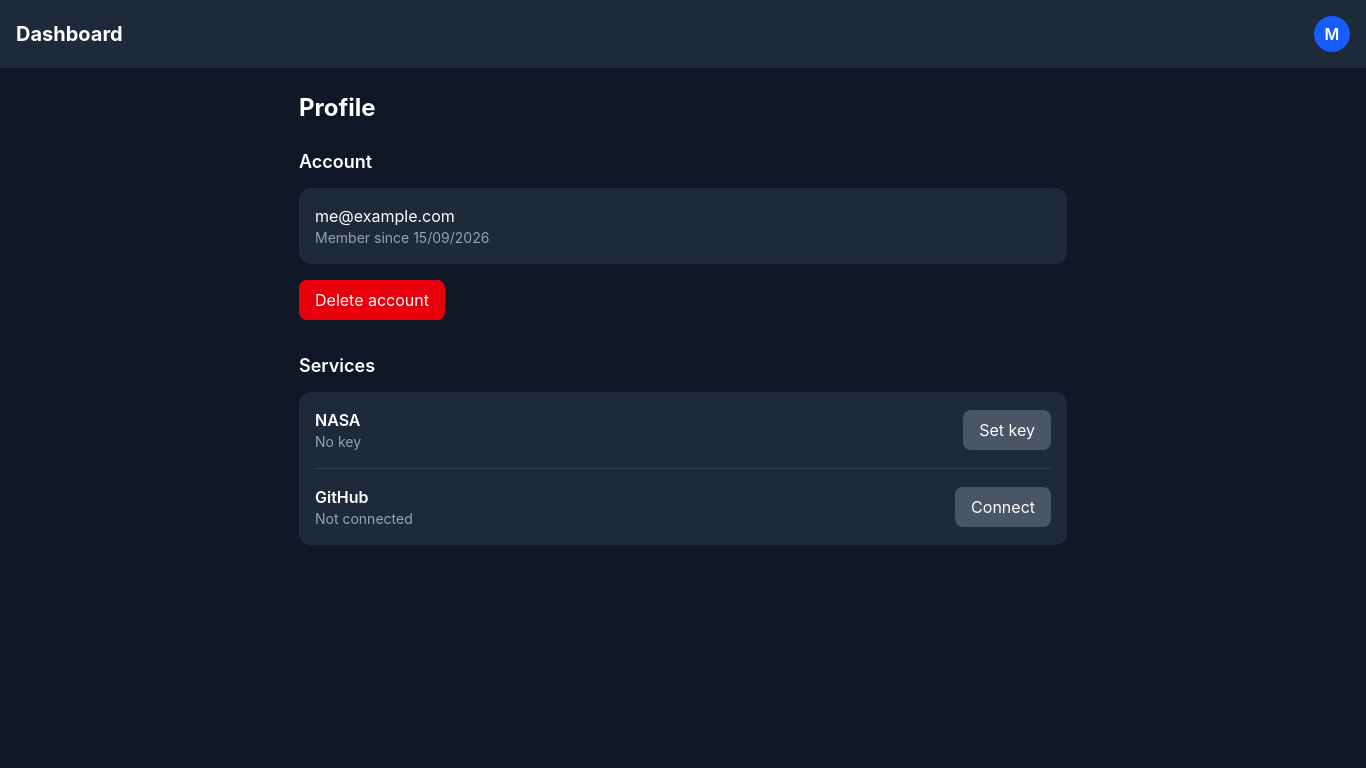
Test case: Account: deleting the account › clicking it asks for confirmation, warning it cannot be undone
Click the button "Delete account": (372, 300) [299,280,445,320]
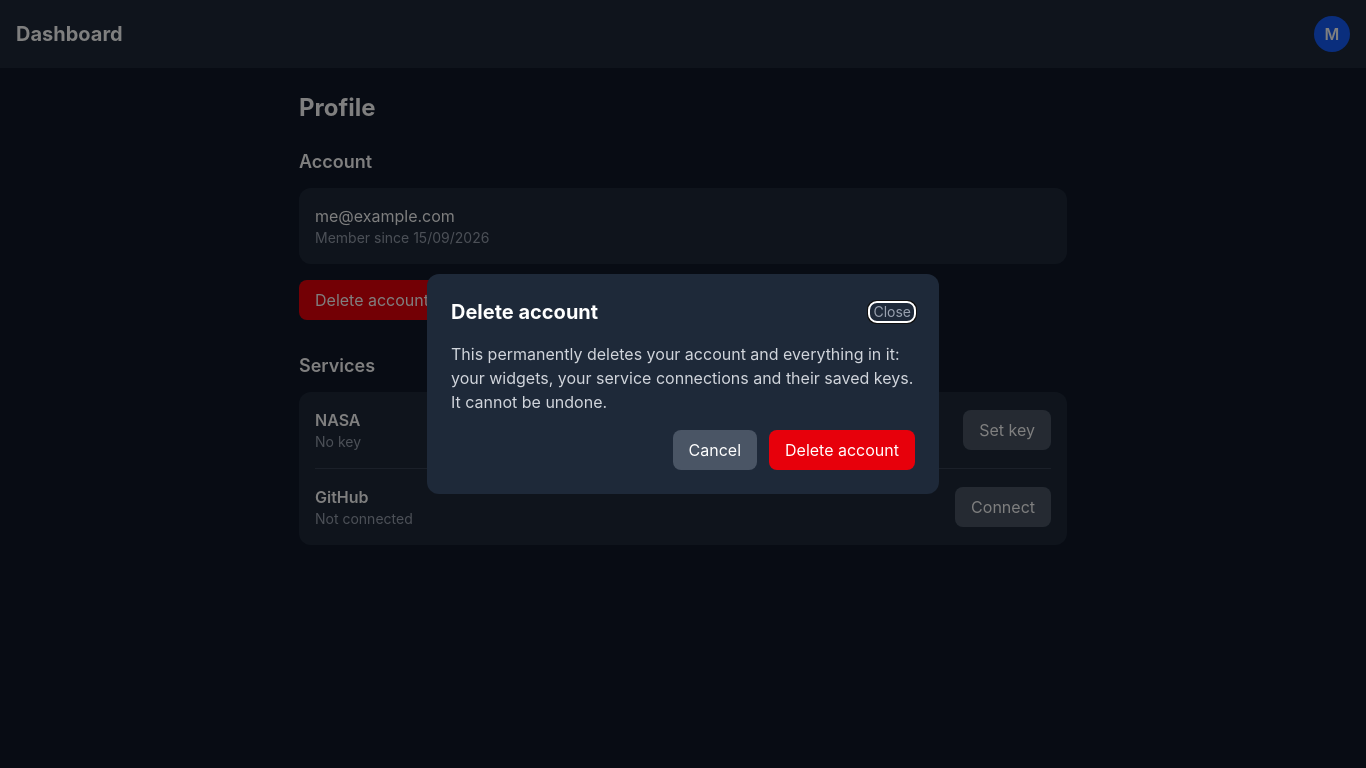
Result: the dialog "Delete account" is shown at [427,274,939,494]
Result: the text "cannot be undone" is shown at [451,344,913,412]
